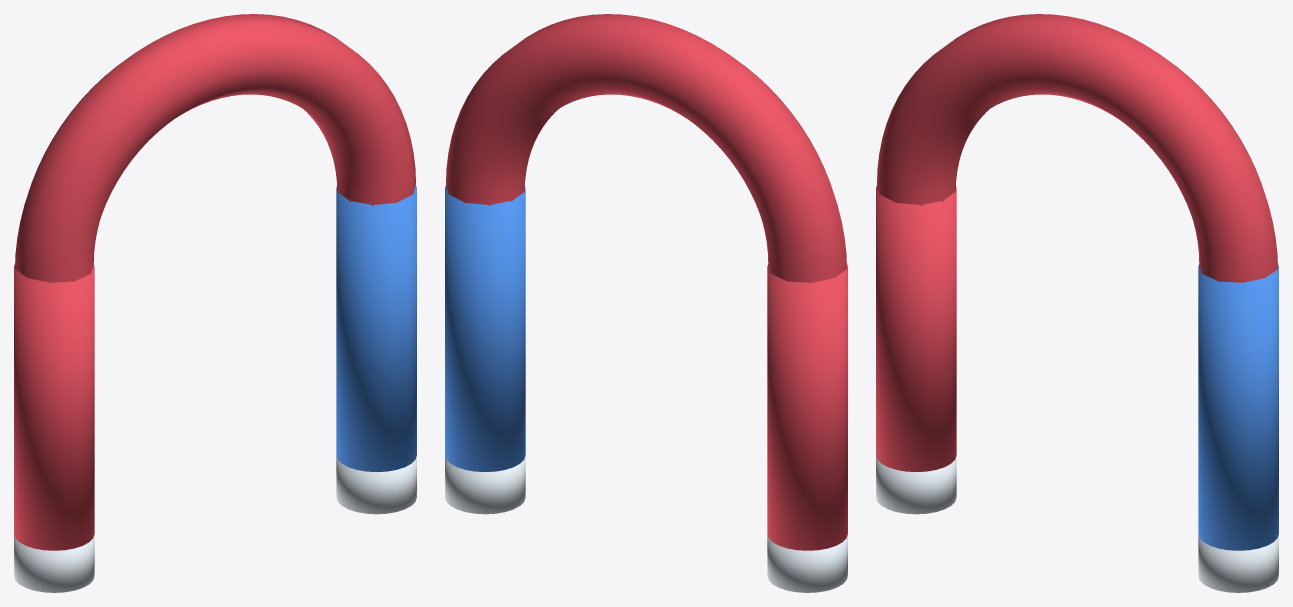
The model's file is horseshoe-magnet-quality.glb.
3 views of the same model, side by side, from view 1: azimuth 30°, elevation 25°; view 2: azimuth 150°, elevation 25°; view 3: azimuth 330°, elevation 25° (orthographic).
Parts seen in each view (by area): view 1: Arch; view 2: Arch; view 3: Arch.
Part boxes in pixels (<box>): Arch: <box>14,14,416,592</box>; Arch: <box>445,14,847,592</box>; Arch: <box>876,14,1278,592</box>.
Bounding box in the file's own units: 1.46 × 1.82 × 0.26.
